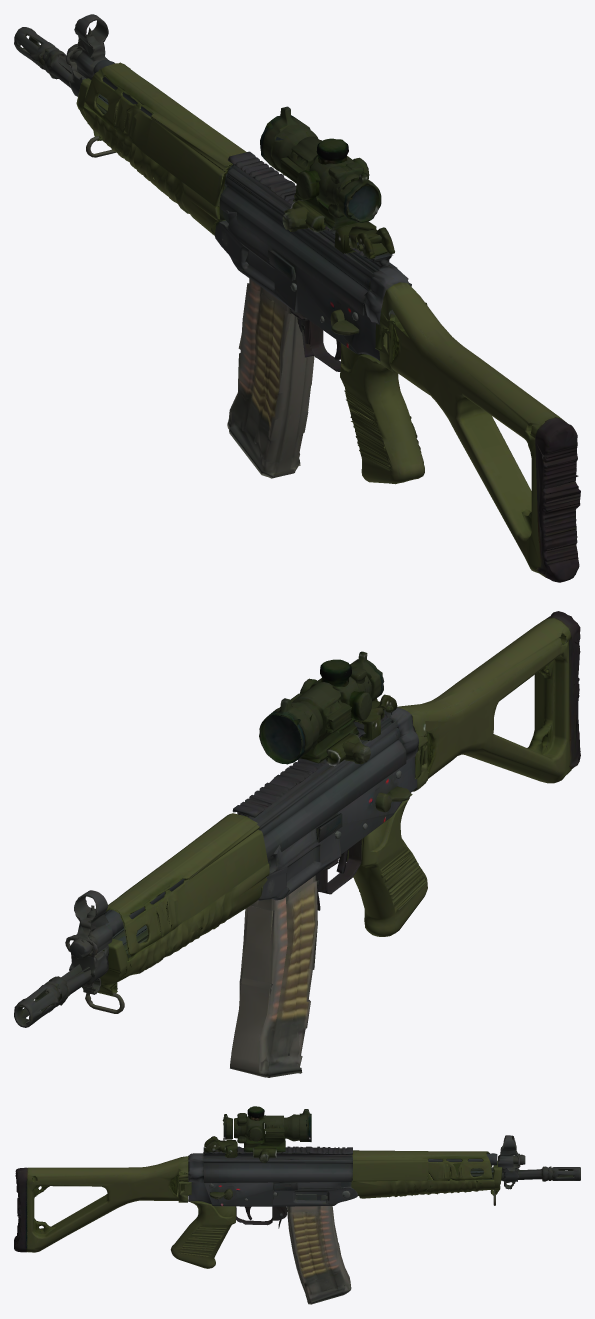
The picture shows the model from 3 angles, top to bottom: view 1: azimuth 30°, elevation 25°; view 2: azimuth 150°, elevation 25°; view 3: azimuth 270°, elevation 25°; orthographic projection. The views are drawn at different scales.
Visible parts, largest first — view 1: govde; view 2: govde; view 3: govde.
Part boxes in pixels (bbox=[...]): govde: bbox=[14, 14, 580, 582]; govde: bbox=[14, 611, 580, 1077]; govde: bbox=[14, 1106, 580, 1304].
Bounding box in the file's own units: 0.0636 × 0.2732 × 0.73.
1 material, 1 textured.
